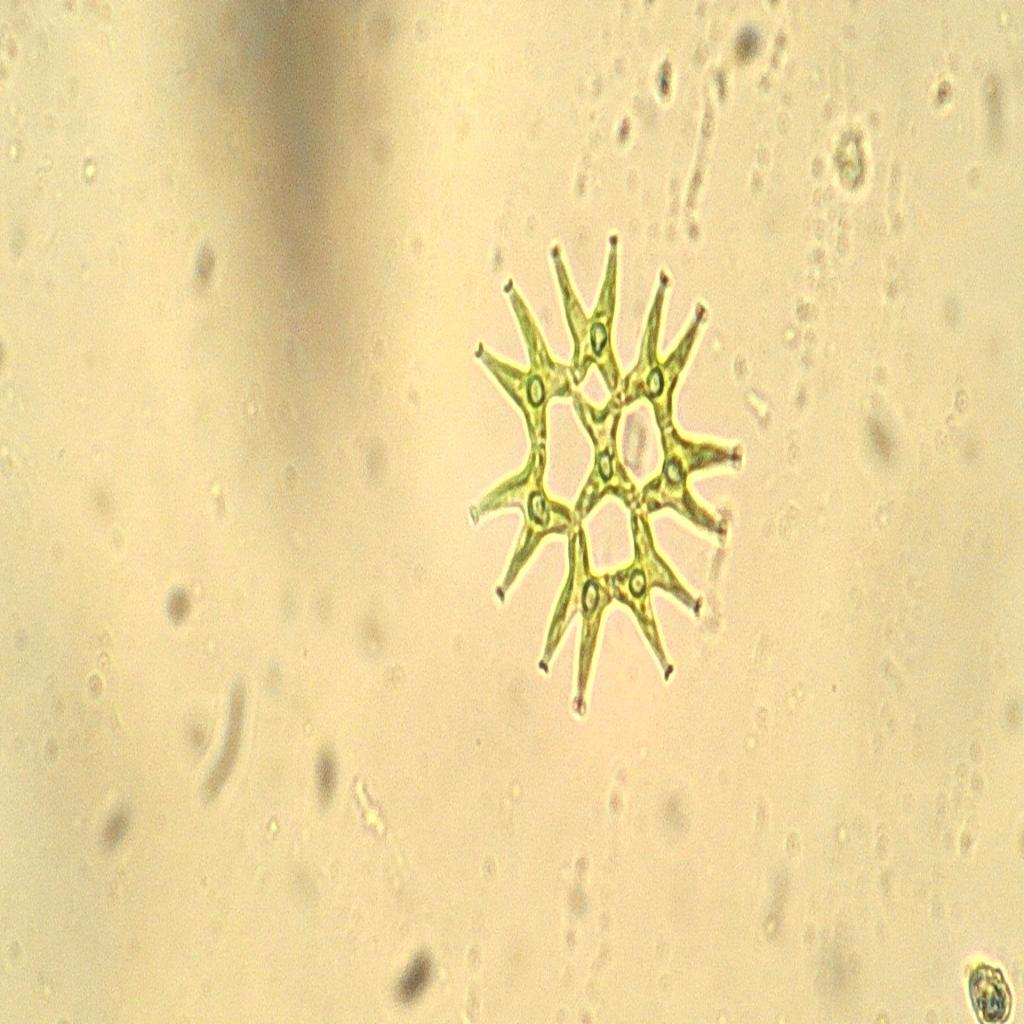Pediastrum_CTH: (458, 197, 752, 733)
